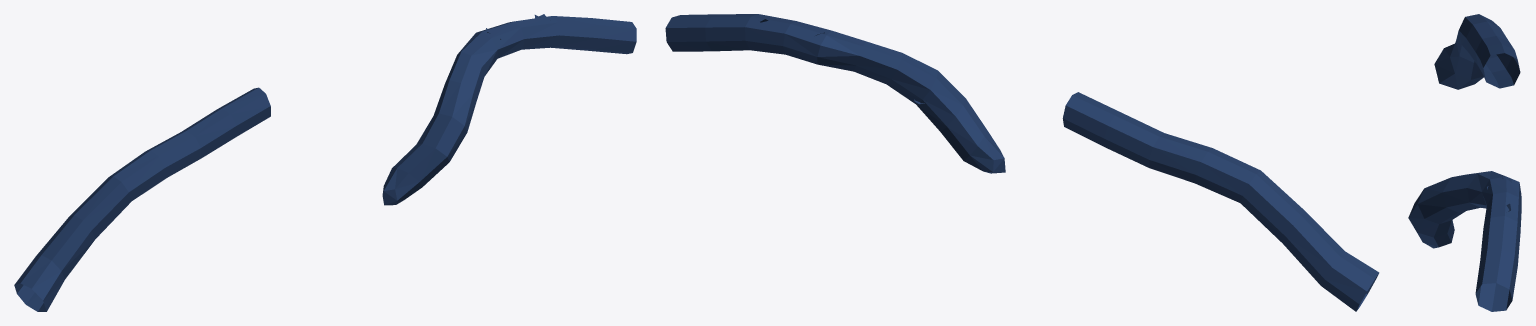
Rendered from Vena Subclavia.FBX.
The picture shows the model from 3 angles, left to right: view 1: azimuth 30°, elevation 25°; view 2: azimuth 150°, elevation 25°; view 3: azimuth 270°, elevation 25°; orthographic projection. The views are drawn at different scales.
Visible parts, largest first — view 1: CS_Veins; view 2: CS_Veins; view 3: CS_Veins.
Part boxes in pixels (x1=…): CS_Veins: x1=14, y1=14, x2=636, y2=311; CS_Veins: x1=665, y1=14, x2=1379, y2=311; CS_Veins: x1=1408, y1=14, x2=1521, y2=311.
Size of the model in its own units: 618 by 145 by 85.15.
